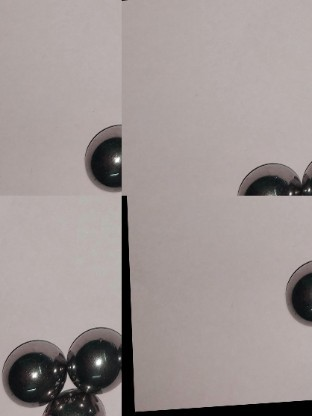ironball: (4, 331, 63, 407), (62, 320, 119, 390), (81, 118, 121, 194), (237, 153, 300, 197), (41, 384, 106, 414), (284, 259, 311, 325)
